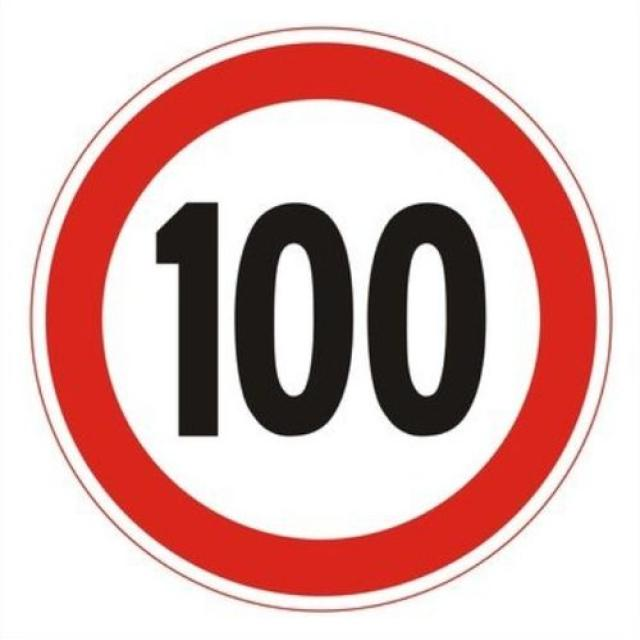speed limit 100: (29, 24, 614, 612)
